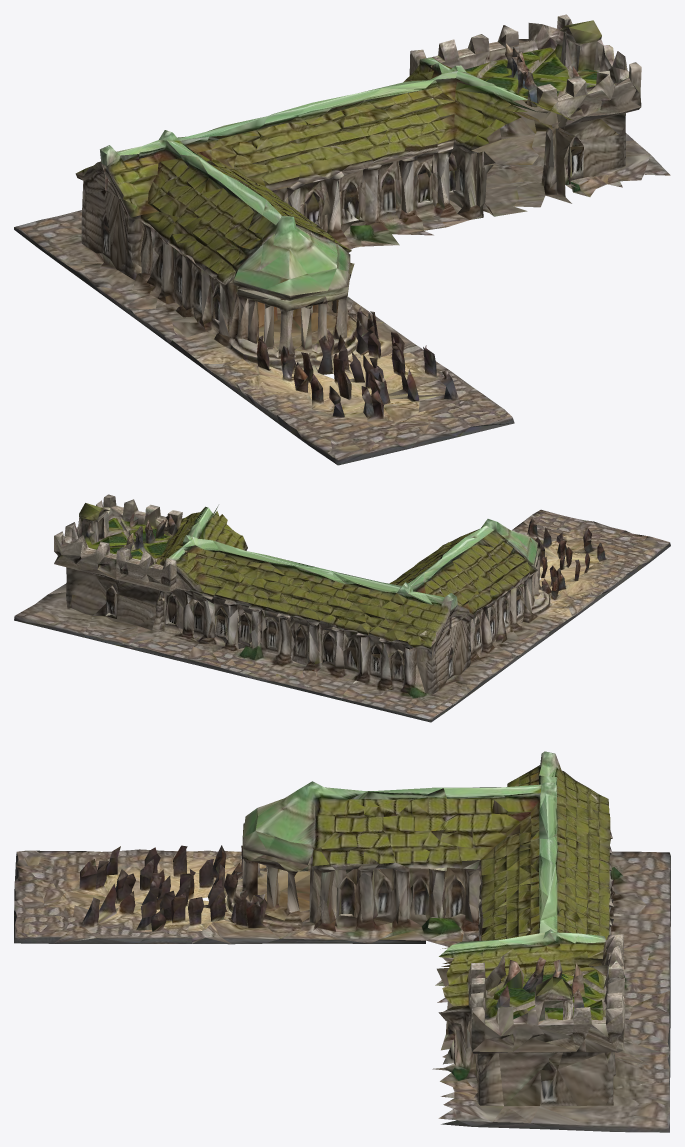
The model's file is opera.glb.
3 views of the same model, one above another, from view 1: azimuth 30°, elevation 25°; view 2: azimuth 150°, elevation 25°; view 3: azimuth 270°, elevation 25° (orthographic). The views are drawn at different scales.
Size of the model in its own units: 3 by 0.6377 by 3.
1 material, 1 textured.
